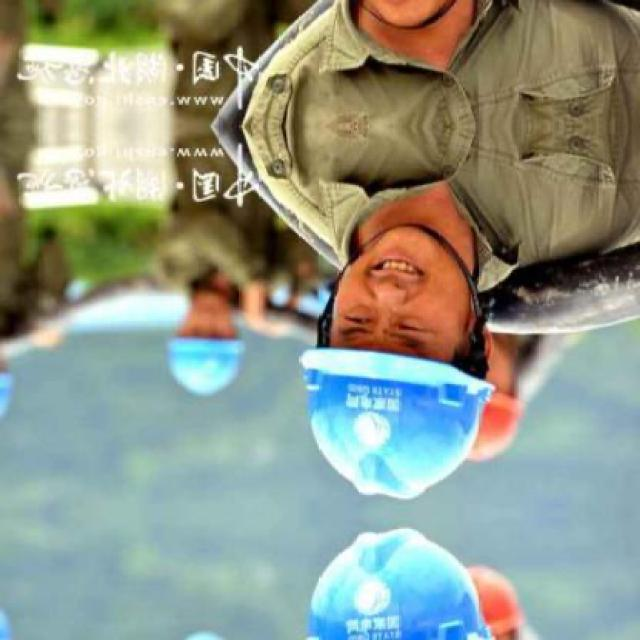con casco: (279, 225, 578, 504), (138, 282, 301, 414)
